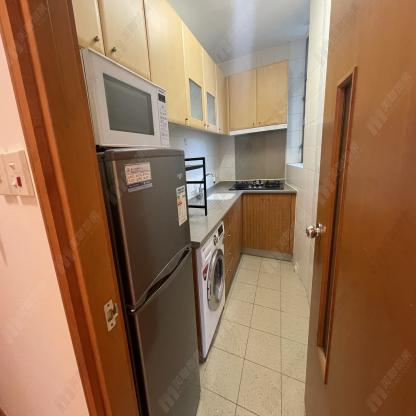Cupboard: (72, 0, 288, 134)
Exhaust Hood: (231, 122, 288, 136)
Fridge: (98, 150, 202, 416)
Microwave: (83, 46, 169, 145)
Sink: (206, 192, 235, 200)
Stove: (228, 179, 287, 190)
